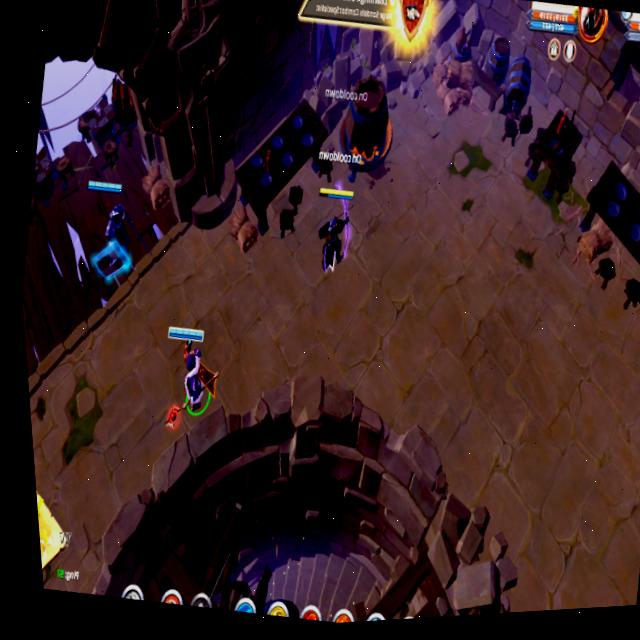red: (67, 167, 156, 283), (149, 316, 229, 431), (303, 180, 365, 281)
